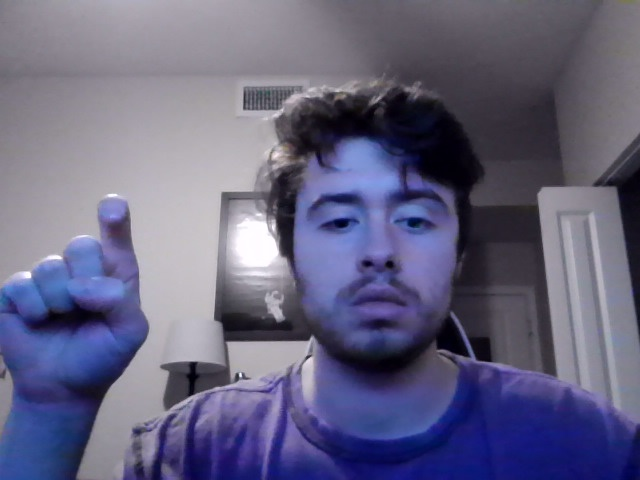x: (1, 193, 150, 453)
